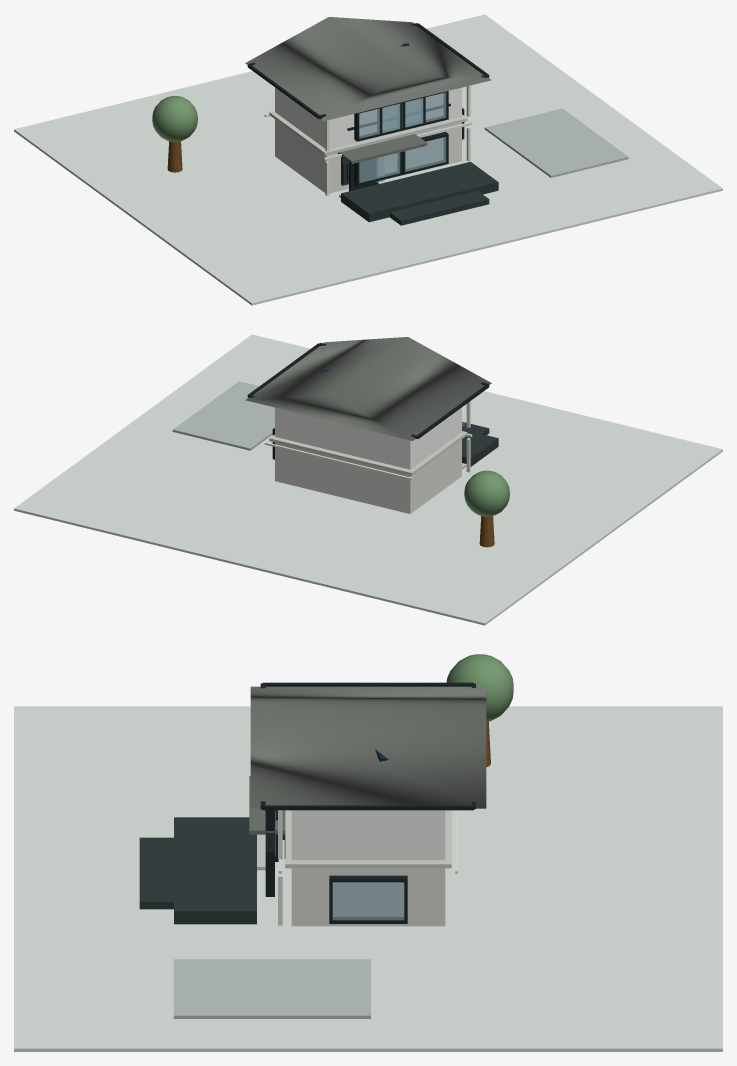
File: generated-shell-pnu-41450-002-urban-atelier.glb
3 renders of one model, top to bottom at view 1: azimuth 30°, elevation 25°; view 2: azimuth 150°, elevation 25°; view 3: azimuth 270°, elevation 25°, orthographic. The views are drawn at different scales.
Visible parts, largest first — view 1: IfcSite_ServicePreviewBase, IfcRoof_GableRoof, IfcSpace_ParkingPad, IfcWindow_Glass (×5), IfcSlab_shell-c1-PNU-41450-002-slab-block-front-deck-1ccdaf6, IfcBuildingElementProxy_FloorMass_L1, IfcBuildingElementProxy_FloorMass_L2, IfcGeographicElement_GardenTree, IfcSlab_DeckModule, IfcSlab_LevelCap_L1, IfcCovering_EntranceCanopy, IfcDoor_MainEntranceFrame; view 2: IfcSite_ServicePreviewBase, IfcRoof_GableRoof, IfcBuildingElementProxy_FloorMass_L1, IfcBuildingElementProxy_FloorMass_L2, IfcSpace_ParkingPad, IfcGeographicElement_GardenTree, IfcSlab_LevelCap_L1, IfcSlab_shell-c1-PNU-41450-002-slab-block-front-deck-1ccdaf6, IfcCovering_BackShadowBand_L1; view 3: IfcSite_ServicePreviewBase, IfcRoof_GableRoof, IfcSpace_ParkingPad, IfcSlab_shell-c1-PNU-41450-002-slab-block-front-deck-1ccdaf6, IfcBuildingElementProxy_FloorMass_L1, IfcBuildingElementProxy_FloorMass_L2, IfcWindow_Glass, IfcGeographicElement_GardenTree, IfcSlab_DeckModule, IfcSlab_LevelCap_L1, IfcCovering_RoofGutterRight, IfcCovering_RoofGutterLeft (+1 smaller).
Boxes of the visible parts, x1=… form: IfcSite_ServicePreviewBase: x1=14, y1=14, x2=722, y2=305; IfcRoof_GableRoof: x1=245, y1=17, x2=491, y2=120; IfcSpace_ParkingPad: x1=484, y1=108, x2=628, y2=177; IfcWindow_Glass (×5): x1=359, y1=92, x2=446, y2=182; IfcSlab_shell-c1-PNU-41450-002-slab-block-front-deck-1ccdaf6: x1=341, y1=161, x2=498, y2=222; IfcBuildingElementProxy_FloorMass_L1: x1=275, y1=119, x2=461, y2=193; IfcBuildingElementProxy_FloorMass_L2: x1=275, y1=87, x2=461, y2=148; IfcGeographicElement_GardenTree: x1=152, y1=96, x2=197, y2=172; IfcSlab_DeckModule: x1=389, y1=191, x2=489, y2=225; IfcSlab_LevelCap_L1: x1=269, y1=111, x2=467, y2=155; IfcCovering_EntranceCanopy: x1=337, y1=134, x2=427, y2=163; IfcDoor_MainEntranceFrame: x1=349, y1=159, x2=378, y2=191; IfcSite_ServicePreviewBase: x1=14, y1=334, x2=722, y2=625; IfcRoof_GableRoof: x1=245, y1=337, x2=491, y2=440; IfcBuildingElementProxy_FloorMass_L1: x1=275, y1=439, x2=461, y2=513; IfcBuildingElementProxy_FloorMass_L2: x1=275, y1=407, x2=461, y2=469; IfcSpace_ParkingPad: x1=172, y1=381, x2=274, y2=450; IfcGeographicElement_GardenTree: x1=464, y1=470, x2=509, y2=547; IfcSlab_LevelCap_L1: x1=269, y1=431, x2=467, y2=475; IfcSlab_shell-c1-PNU-41450-002-slab-block-front-deck-1ccdaf6: x1=462, y1=429, x2=498, y2=466; IfcCovering_BackShadowBand_L1: x1=264, y1=442, x2=412, y2=480; IfcSite_ServicePreviewBase: x1=14, y1=706, x2=722, y2=1051; IfcRoof_GableRoof: x1=250, y1=686, x2=486, y2=808; IfcSpace_ParkingPad: x1=173, y1=959, x2=370, y2=1018; IfcSlab_shell-c1-PNU-41450-002-slab-block-front-deck-1ccdaf6: x1=174, y1=817, x2=256, y2=924; IfcBuildingElementProxy_FloorMass_L1: x1=291, y1=868, x2=445, y2=926; IfcBuildingElementProxy_FloorMass_L2: x1=291, y1=810, x2=445, y2=860; IfcWindow_Glass: x1=332, y1=882, x2=404, y2=920; IfcGeographicElement_GardenTree: x1=446, y1=654, x2=513, y2=767; IfcSlab_DeckModule: x1=139, y1=837, x2=173, y2=909; IfcSlab_LevelCap_L1: x1=285, y1=810, x2=451, y2=868; IfcCovering_RoofGutterRight: x1=263, y1=805, x2=473, y2=810; IfcCovering_RoofGutterLeft: x1=263, y1=682, x2=473, y2=686.
Size of the model in its own units: 32 by 7.65 by 28.
